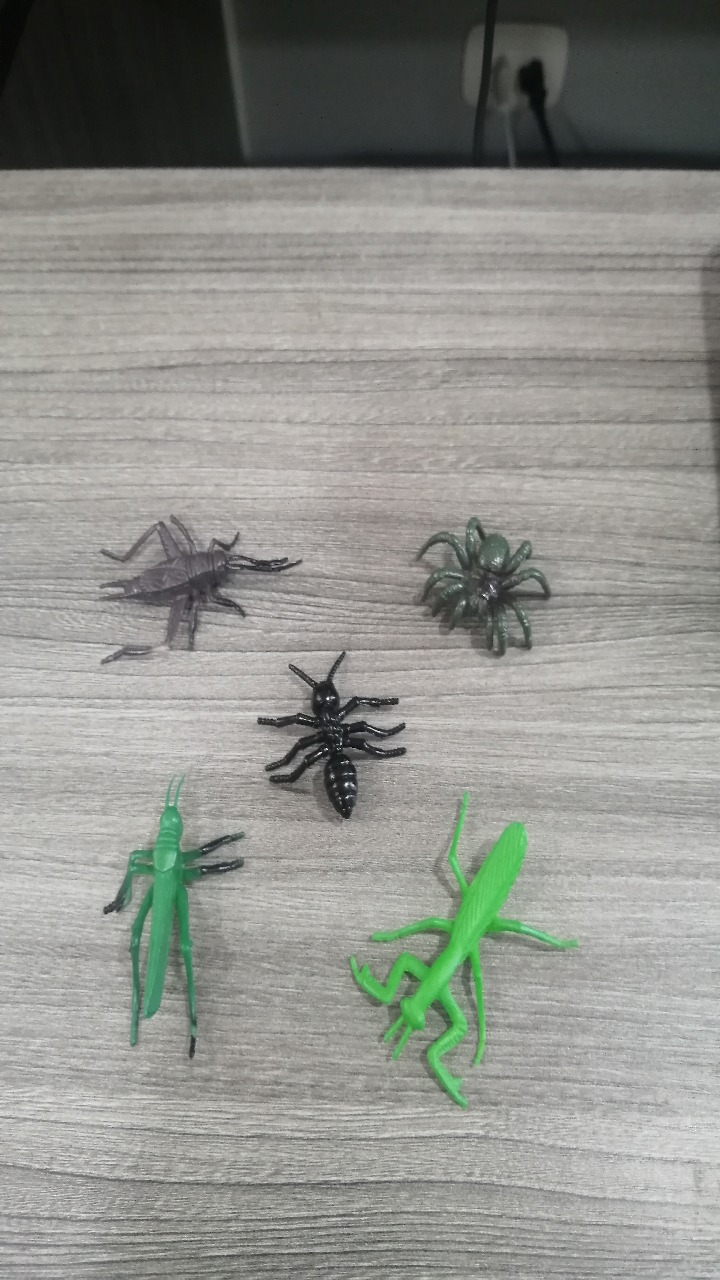intruso: (340, 780, 588, 1140), (61, 769, 251, 1083), (72, 472, 314, 692), (223, 632, 421, 837), (383, 485, 578, 692)
